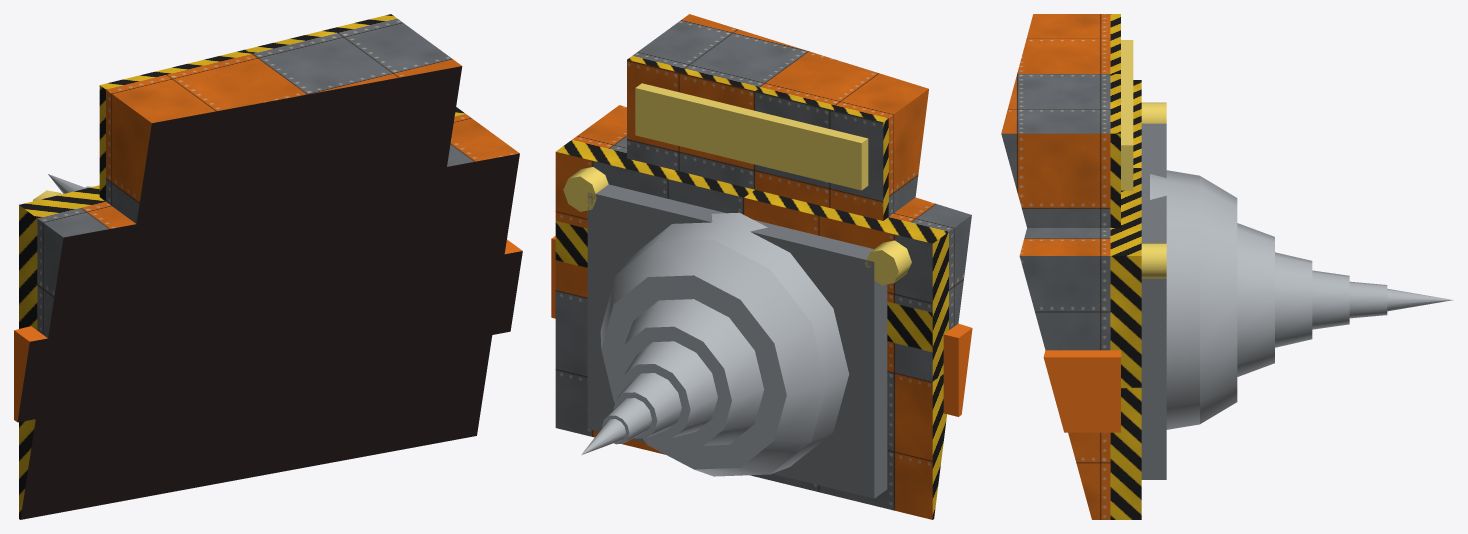
File: prospector_hauler_debris1.obj
The picture shows the model from 3 angles, left to right: view 1: azimuth 30°, elevation 25°; view 2: azimuth 150°, elevation 25°; view 3: azimuth 270°, elevation 25°; orthographic projection. The views are drawn at different scales.
Parts seen in each view (by area): view 1: hull, cab, rail; view 2: drill, hull, cab, drill_mount, cab_glass, lamp, rail; view 3: drill, hull, cab, drill_mount, rail, cab_glass, lamp.
Part boxes in pixels (left/top/right/bottom): hull: left=19, top=107, right=519, bottom=519; cab: left=99, top=14, right=462, bottom=223; rail: left=14, top=239, right=522, bottom=422; drill: left=581, top=212, right=849, bottom=476; hull: left=555, top=105, right=971, bottom=519; cab: left=627, top=14, right=928, bottom=220; drill_mount: left=587, top=184, right=887, bottom=498; cab_glass: left=635, top=83, right=868, bottom=190; lamp: left=563, top=167, right=911, bottom=285; rail: left=551, top=236, right=972, bottom=416; drill: left=1150, top=170, right=1452, bottom=429; hull: left=1019, top=80, right=1141, bottom=519; cab: left=1001, top=14, right=1120, bottom=227; drill_mount: left=1141, top=123, right=1166, bottom=479; rail: left=1043, top=350, right=1120, bottom=432; cab_glass: left=1121, top=40, right=1133, bottom=190; lamp: left=1141, top=102, right=1166, bottom=278.
Size of the model in its own units: 10.8 by 9.5 by 10.88.
6 materials, 1 textured.
